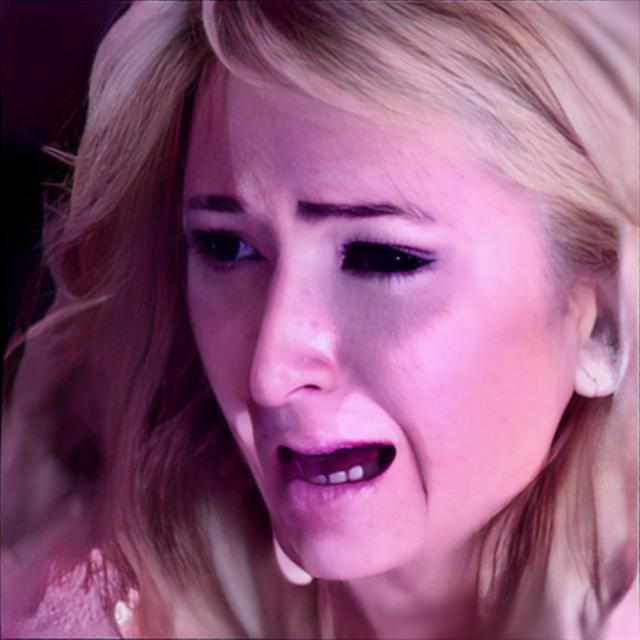sad: (172, 32, 577, 588)
